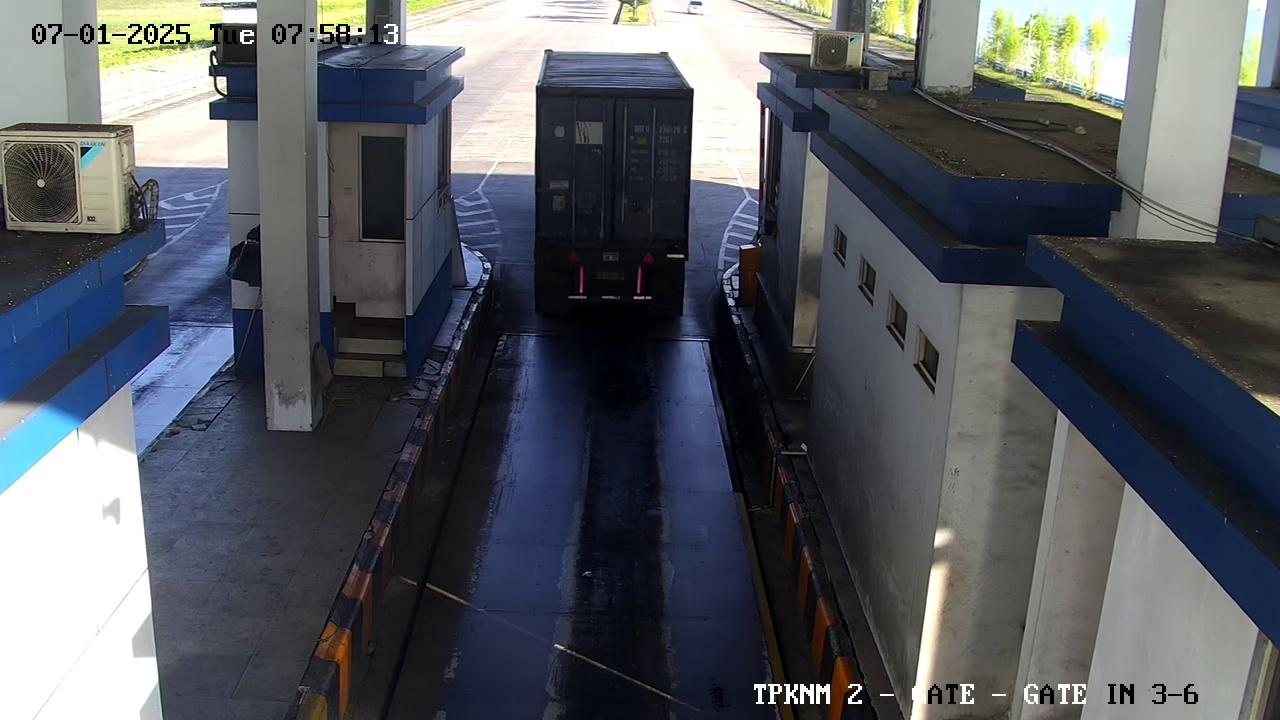Container_ID: (625, 118, 690, 153)
